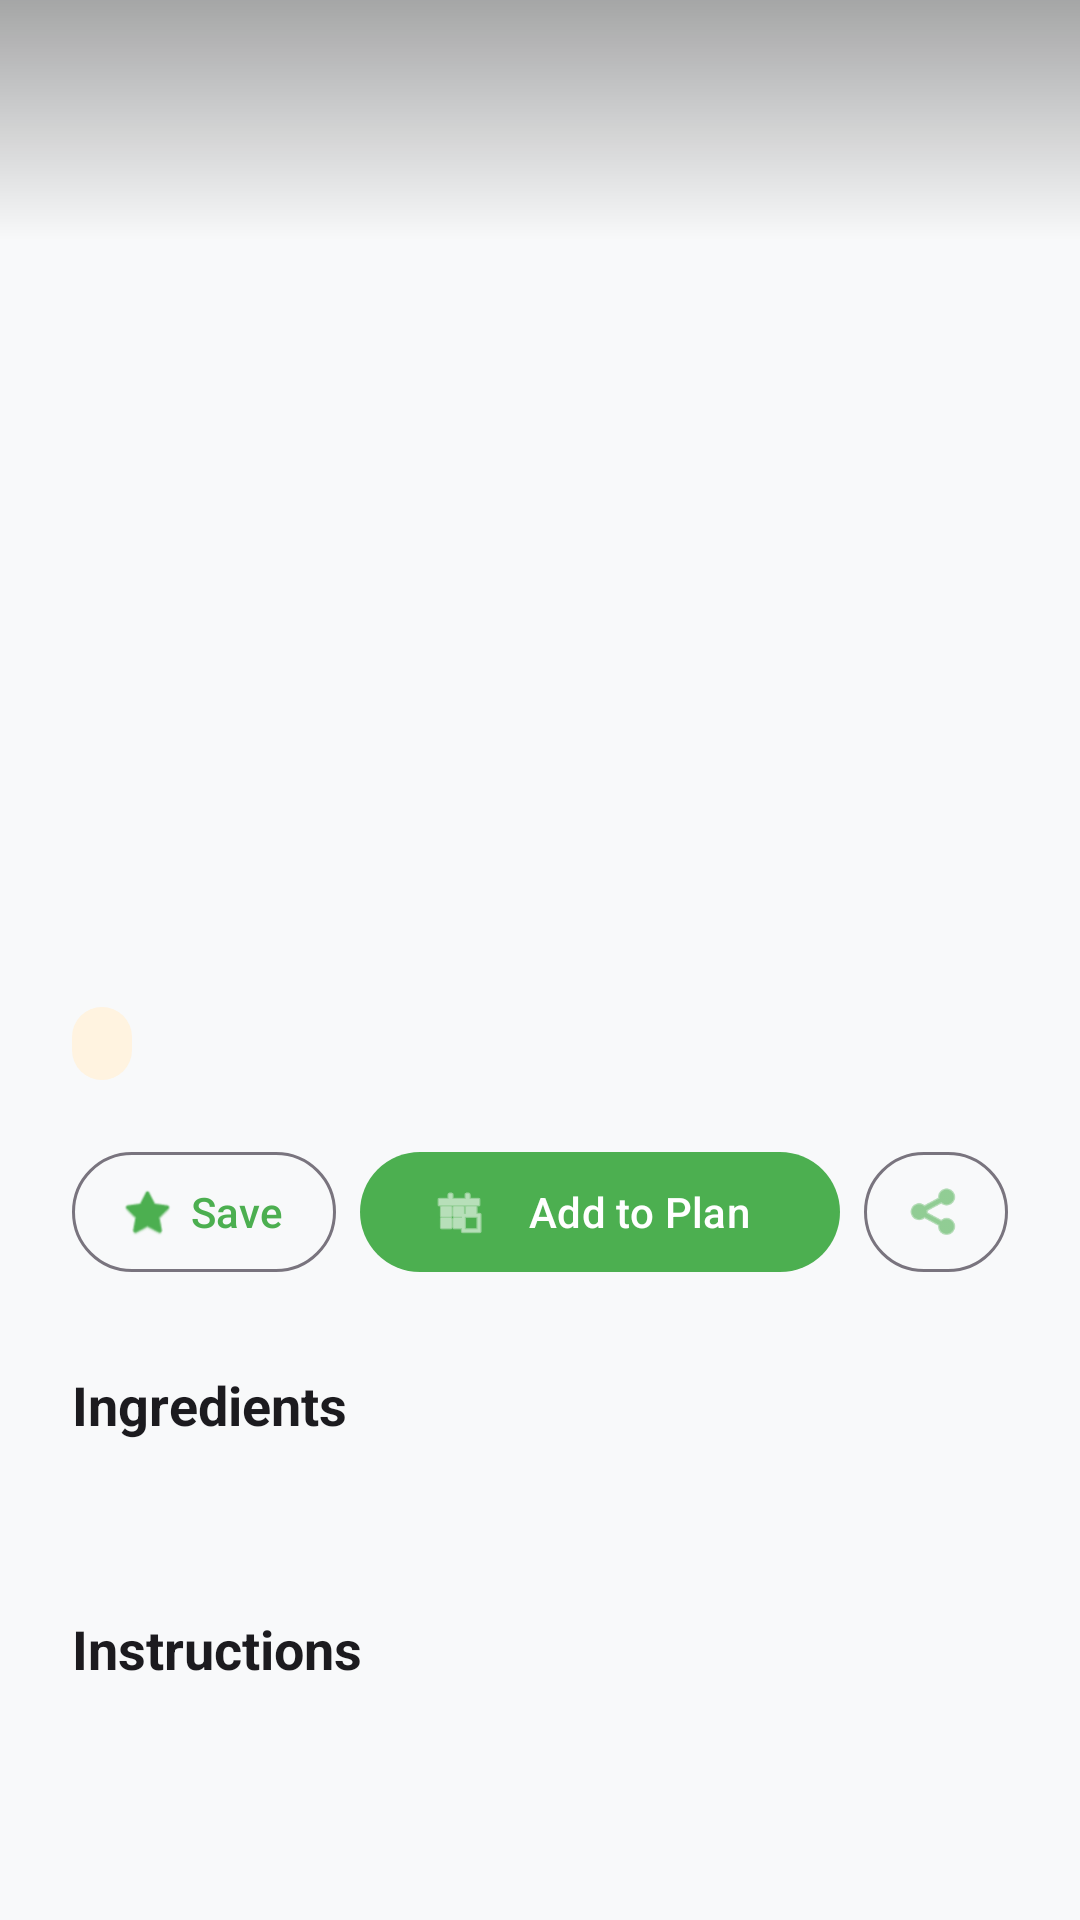

Where to tap for icons on this 1080 × 1920 app screen, as (x=x, y=y):
share: (x=936, y=1212)
